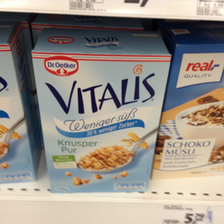cereal: (31, 26, 170, 193), (156, 29, 224, 184)
